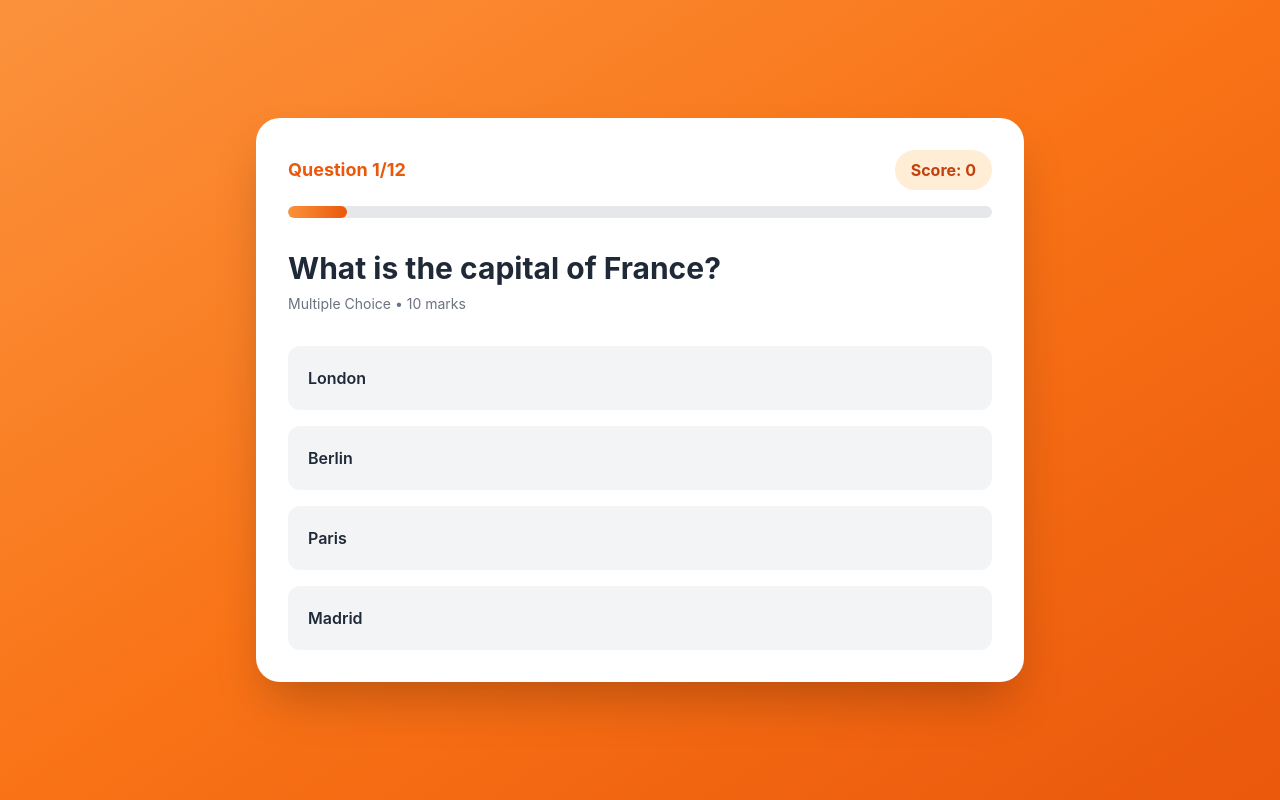
Test case: QuizPlatform Component › handles incorrect answer selection
The image size is (1280, 800).
Step 1. Click the button "London" → (337, 378), box left=288, top=346, right=992, bottom=410
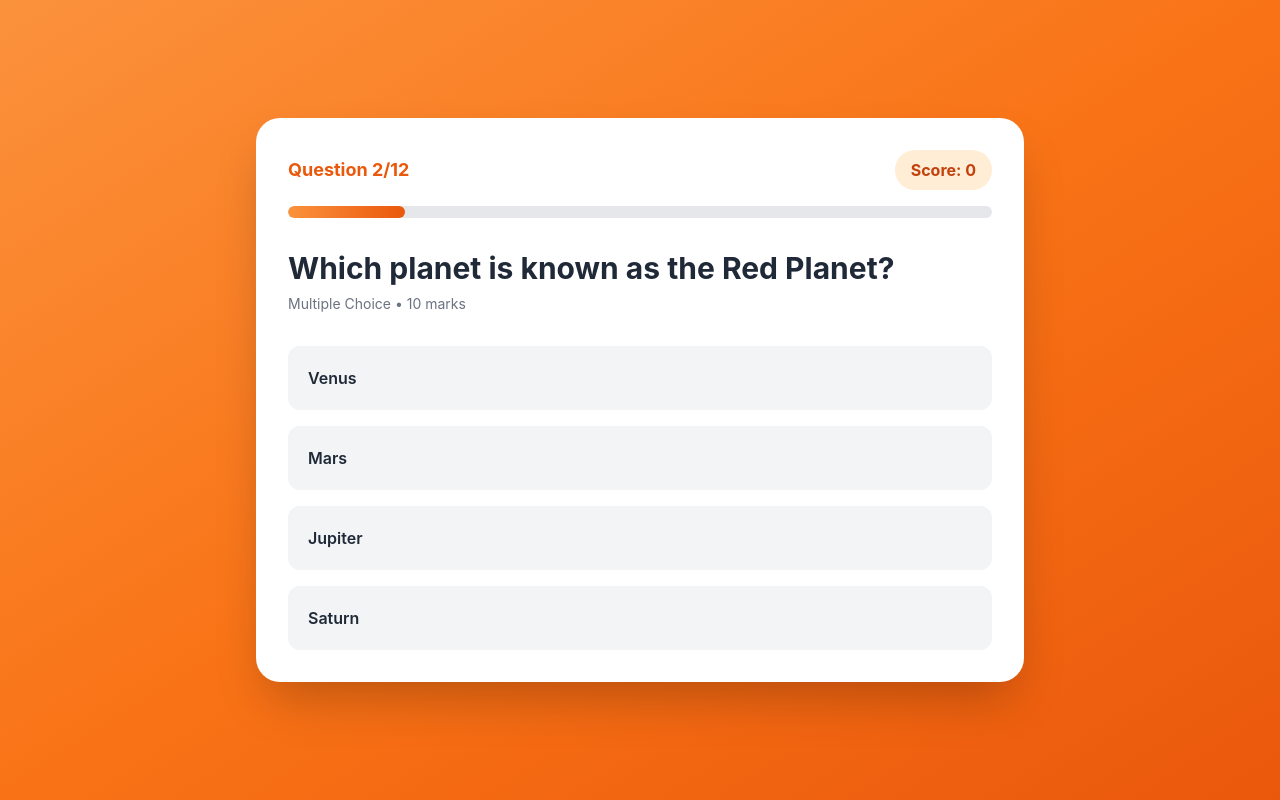
Expected: the text "Score: 0" is shown, left=895, top=150, right=992, bottom=190
Result: the heading "Which planet is known as the Red Planet?" is shown at left=288, top=250, right=992, bottom=286
